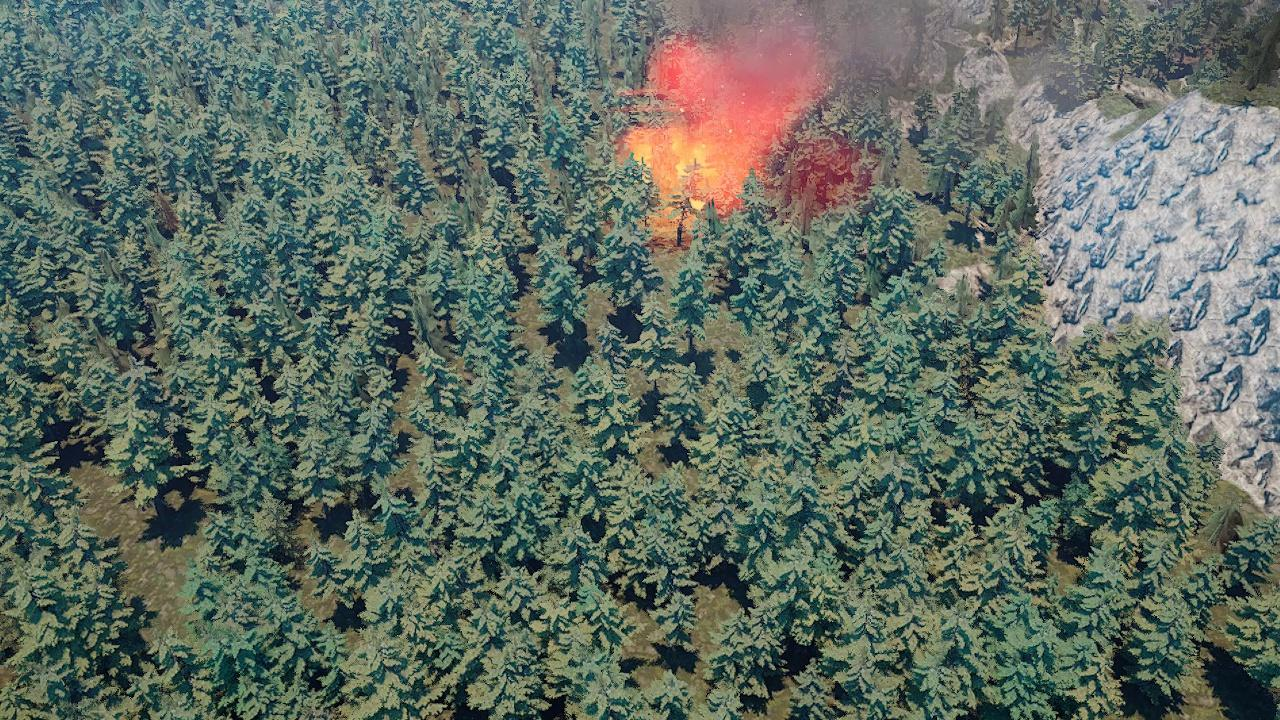fire: (595, 40, 817, 229)
smoke: (623, 1, 1022, 216)
